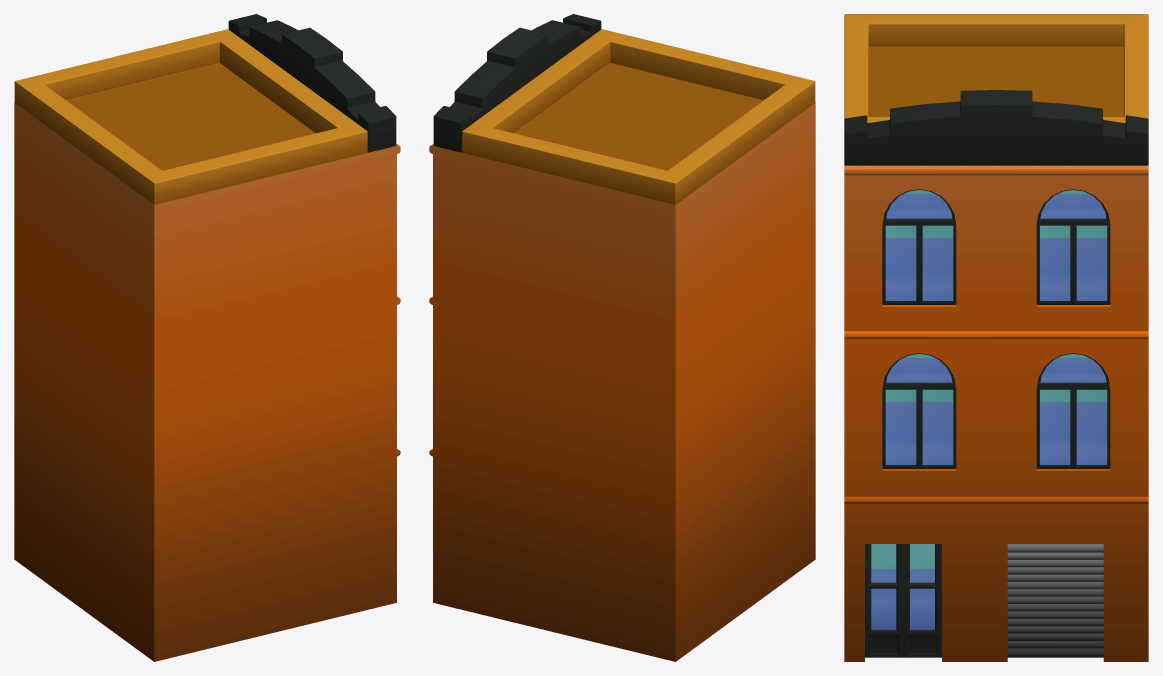
The model's file is SM_Building_Orange.fbx.
3 renders of one model, left to right at view 1: azimuth 30°, elevation 25°; view 2: azimuth 150°, elevation 25°; view 3: azimuth 270°, elevation 25°, orthographic. The views are drawn at different scales.
Parts seen in each view (by area): view 1: SM_building_Orange; view 2: SM_building_Orange; view 3: SM_building_Orange.
Boxes of the visible parts, x1,y1,x2,y2 form: SM_building_Orange: (14, 14, 400, 661); SM_building_Orange: (429, 14, 815, 661); SM_building_Orange: (844, 14, 1148, 661).
Size of the model in its own units: 508 by 1011 by 500.
1 material, 1 textured.
